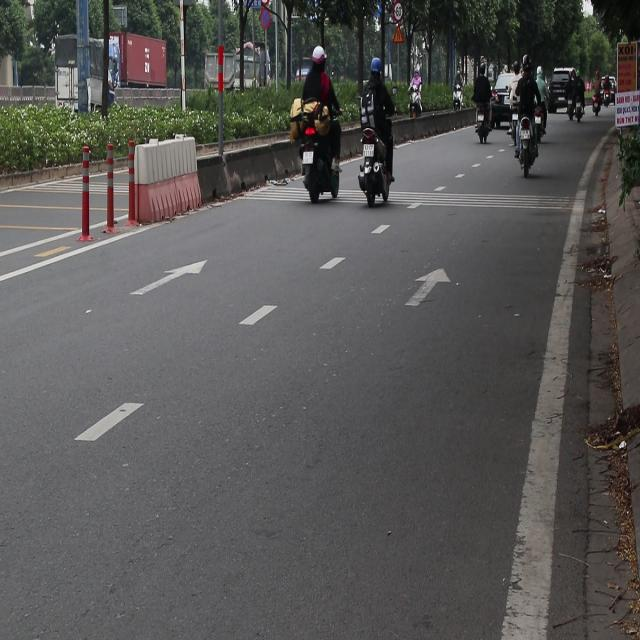car: (547, 72, 576, 111), (492, 72, 516, 104)
motorbike: (298, 125, 339, 197), (357, 131, 392, 207), (519, 120, 544, 192), (471, 95, 495, 145), (402, 86, 424, 123), (562, 85, 576, 119), (451, 92, 465, 119), (574, 95, 586, 126), (591, 92, 603, 120)
truck: (88, 26, 186, 96), (48, 41, 116, 122)
